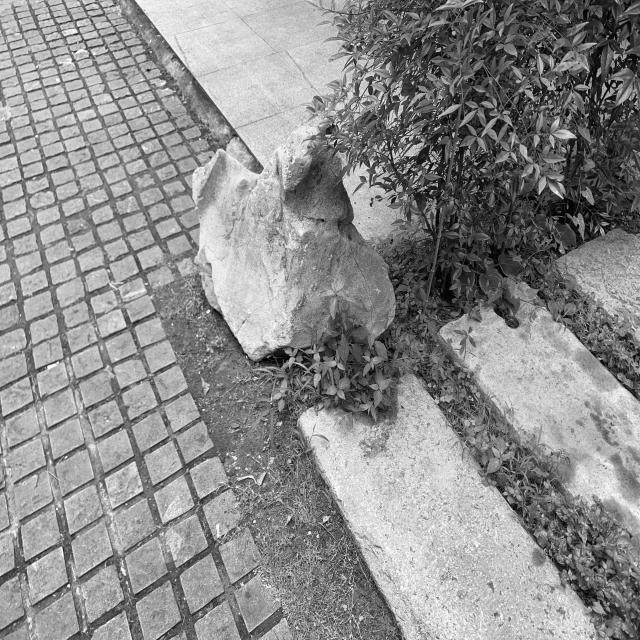Stone: (193, 128, 395, 360)
